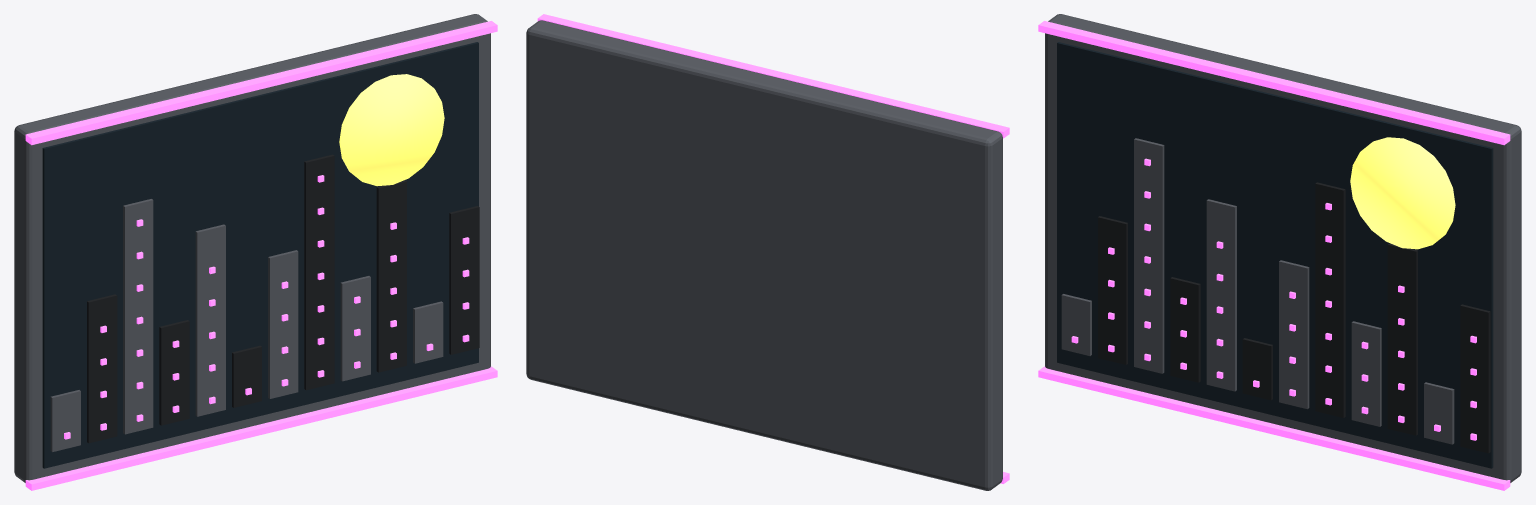
File: holo_poster_skyline.glb
3 renders of one model, left to right at view 1: azimuth 30°, elevation 25°; view 2: azimuth 150°, elevation 25°; view 3: azimuth 330°, elevation 25°, orthographic.
Visible parts, largest first — view 1: GD_holo_poster_skyline__m1, GD_holo_poster_skyline__m0, GD_holo_poster_skyline__m3, GD_holo_poster_skyline__m2, GD_holo_poster_skyline__m4; view 2: GD_holo_poster_skyline__m0, GD_holo_poster_skyline__m2; view 3: GD_holo_poster_skyline__m1, GD_holo_poster_skyline__m0, GD_holo_poster_skyline__m3, GD_holo_poster_skyline__m2, GD_holo_poster_skyline__m4.
Part boxes in pixels (box(x1,y1,x2,y2)): GD_holo_poster_skyline__m1: box(42, 42, 478, 468); GD_holo_poster_skyline__m0: box(14, 14, 490, 482); GD_holo_poster_skyline__m3: box(87, 154, 479, 443); GD_holo_poster_skyline__m2: box(25, 21, 497, 490); GD_holo_poster_skyline__m4: box(339, 74, 444, 186); GD_holo_poster_skyline__m0: box(526, 20, 1002, 490); GD_holo_poster_skyline__m2: box(537, 14, 1009, 483); GD_holo_poster_skyline__m1: box(1057, 42, 1493, 468); GD_holo_poster_skyline__m0: box(1045, 14, 1521, 482); GD_holo_poster_skyline__m3: box(1098, 182, 1490, 453); GD_holo_poster_skyline__m2: box(1038, 21, 1510, 490); GD_holo_poster_skyline__m4: box(1350, 137, 1455, 249).
Bounding box in the file's own units: 0.9 × 0.65 × 0.066.
